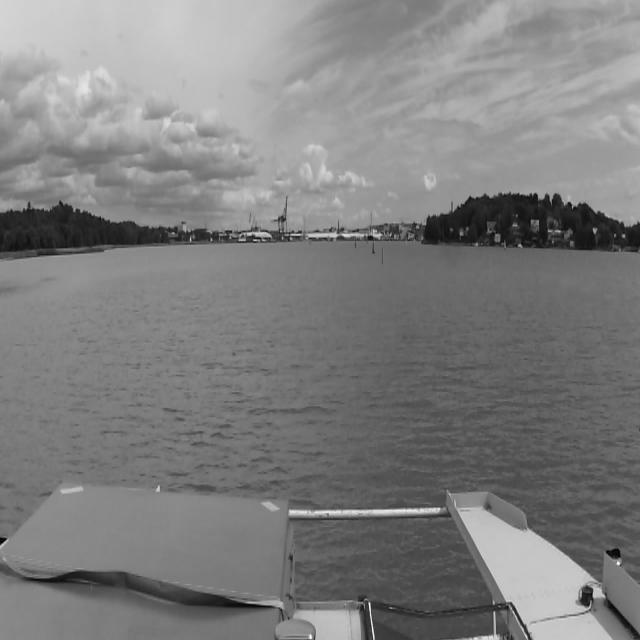buoy: (372, 240, 376, 254), (382, 248, 384, 264), (504, 239, 506, 250), (354, 240, 356, 248)
